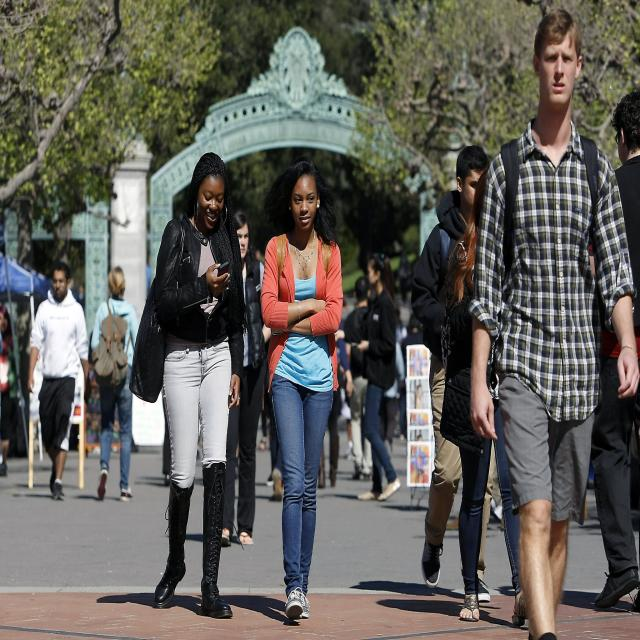body: (462, 1, 640, 639), (125, 146, 247, 622), (233, 244, 423, 503), (255, 154, 345, 628), (410, 143, 496, 605), (442, 168, 528, 626), (590, 87, 640, 614), (220, 208, 274, 547), (333, 249, 402, 501), (25, 257, 91, 505), (90, 264, 139, 503), (342, 275, 374, 483), (317, 315, 354, 493), (0, 302, 21, 478), (156, 380, 174, 488), (70, 270, 89, 304), (0, 332, 5, 369)
